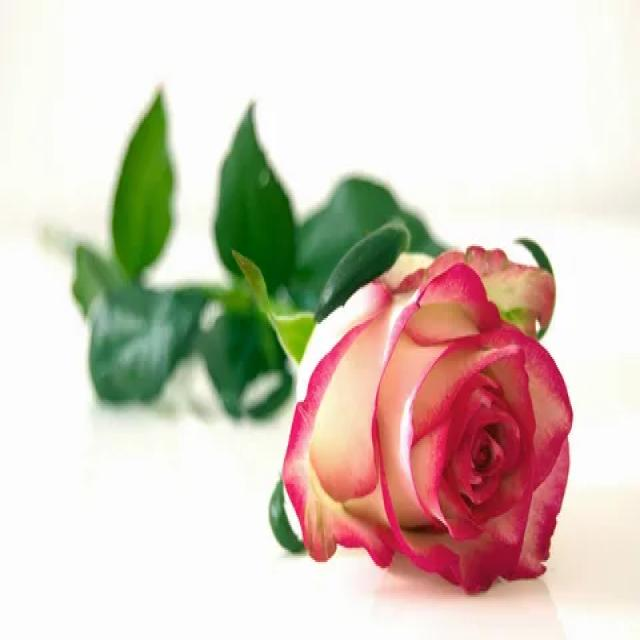rose: (274, 213, 575, 599)
